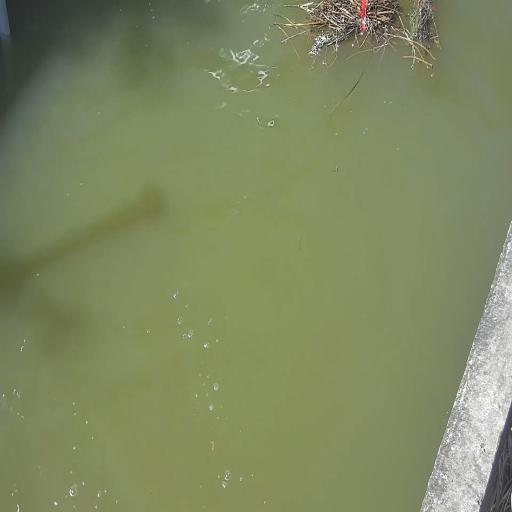twig: (319, 0, 409, 62), (413, 0, 443, 76)
